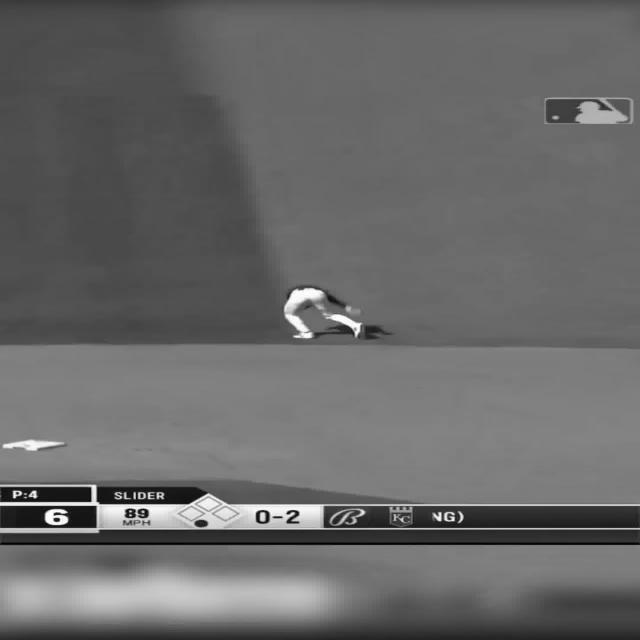shoe: (351, 322, 365, 338), (292, 332, 314, 338)
